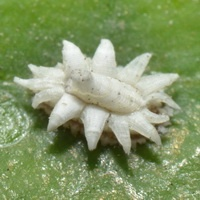insect: (14, 39, 179, 153)
